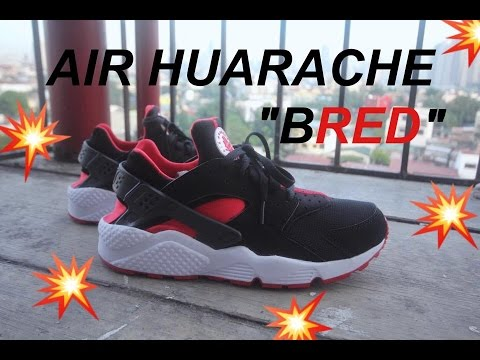Air Huarache Bred: (94, 116, 402, 290), (63, 100, 222, 228)
